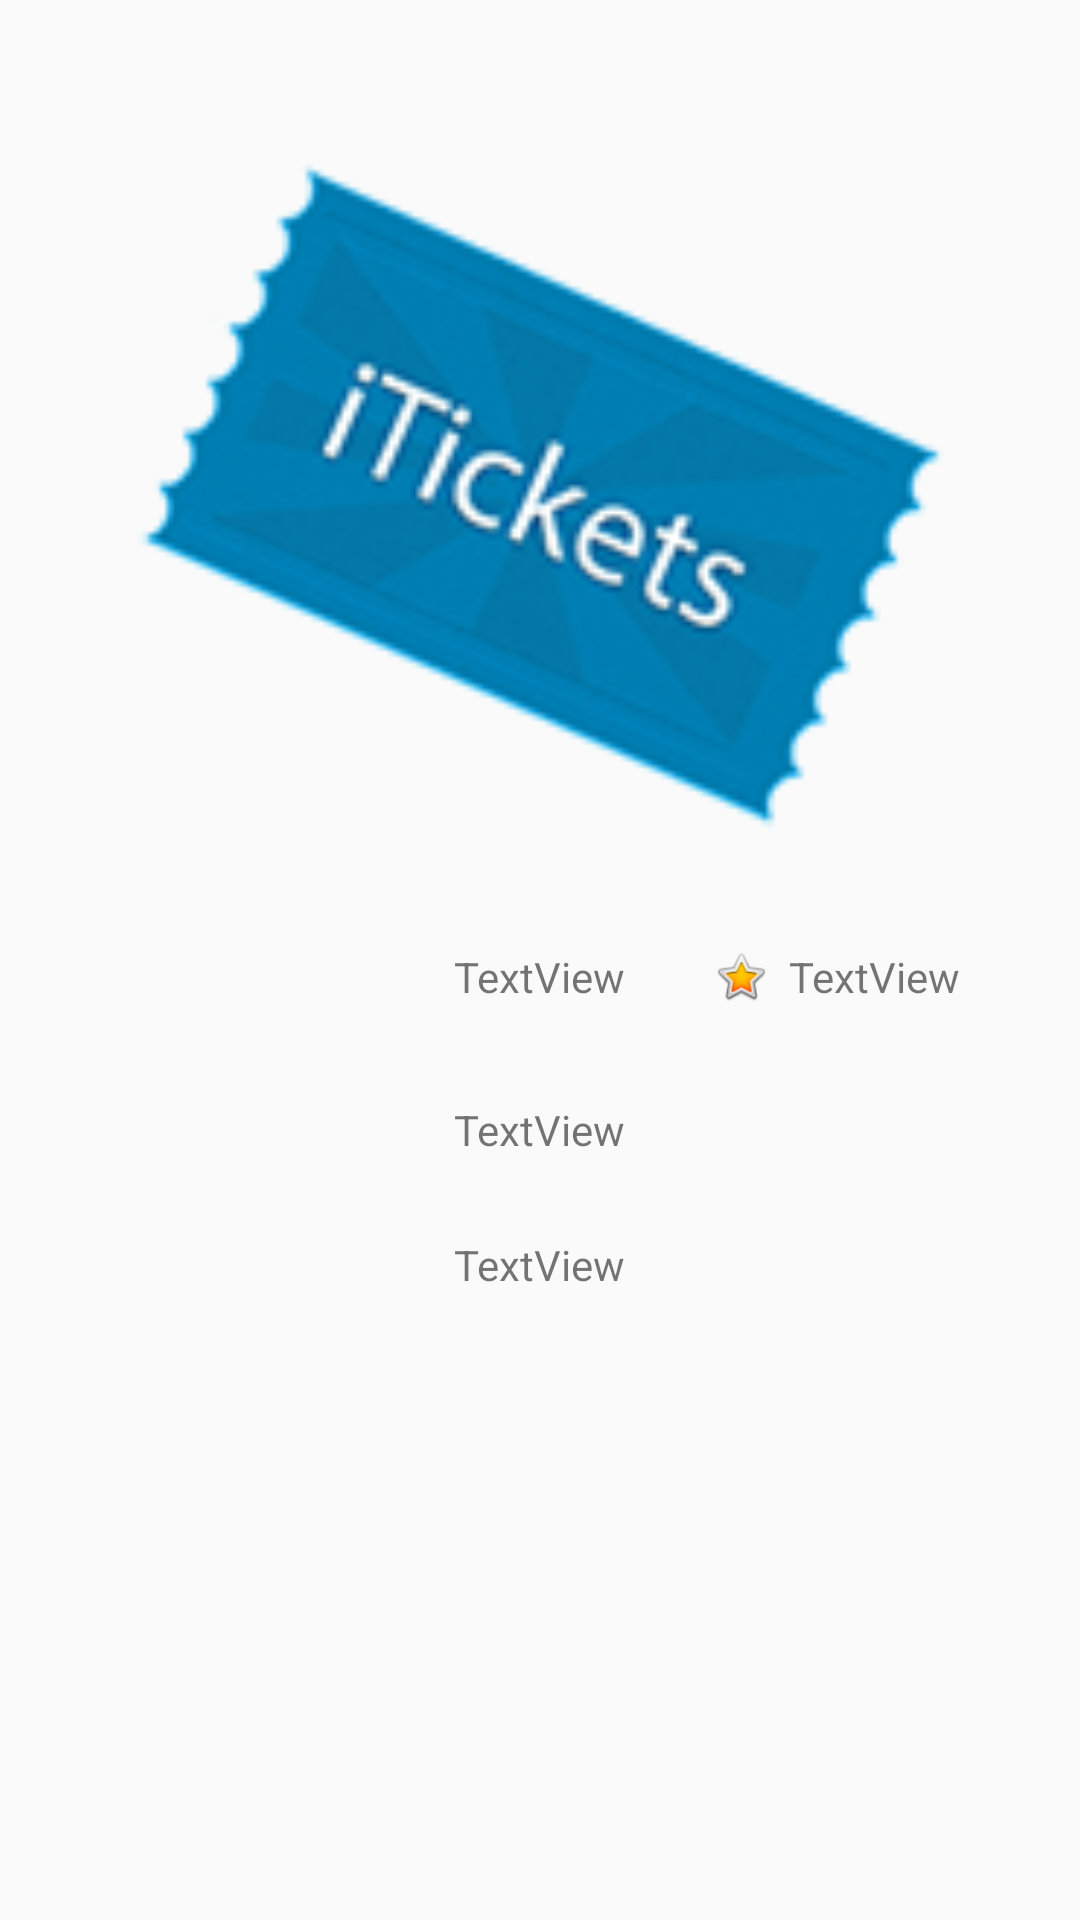

Icon click points for this 1080 × 1920 phone screenshot, format [x,y]:
star on: [741,977]
